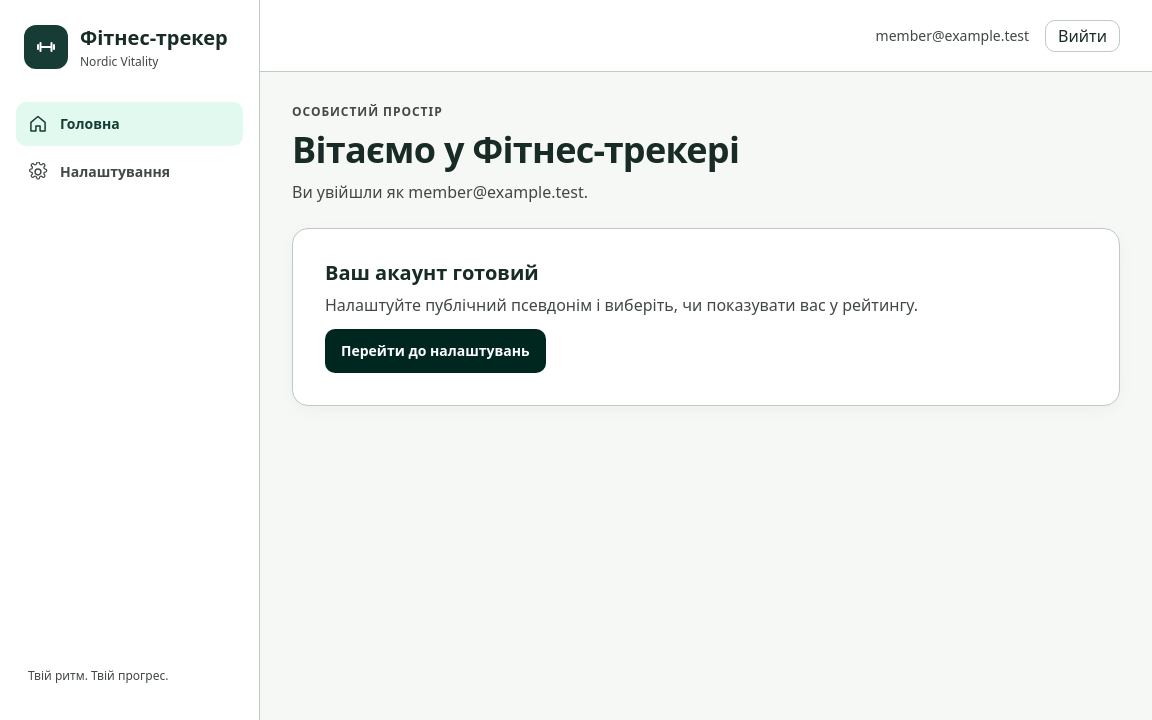
reload restores the server session and unauthorized settings returns to login
The image size is (1152, 720).
Expected: the text "member@example.test" is shown, [876, 26, 1029, 46]
Click the link "Налаштування". click: coordinates (99, 172)
box: [28, 162, 170, 182]
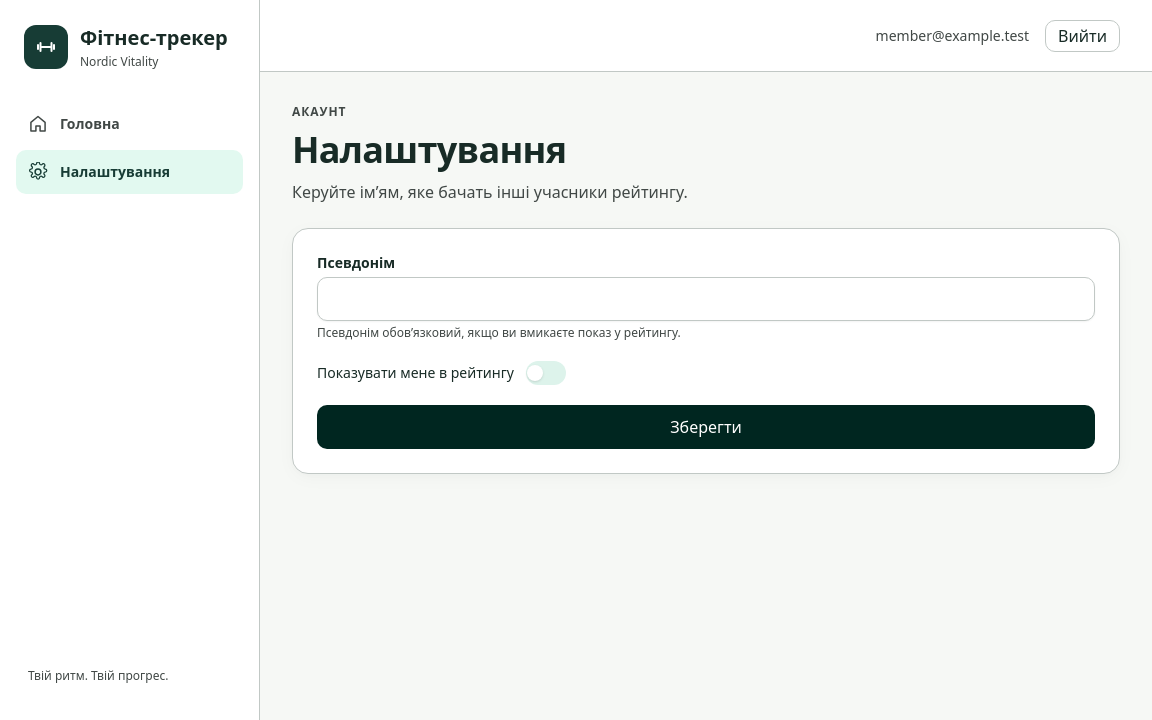
Expected: the heading "Налаштування" is shown, [292, 125, 566, 174]
Click the button "Зберегти". click: coordinates (706, 427)
box: [317, 405, 1095, 449]
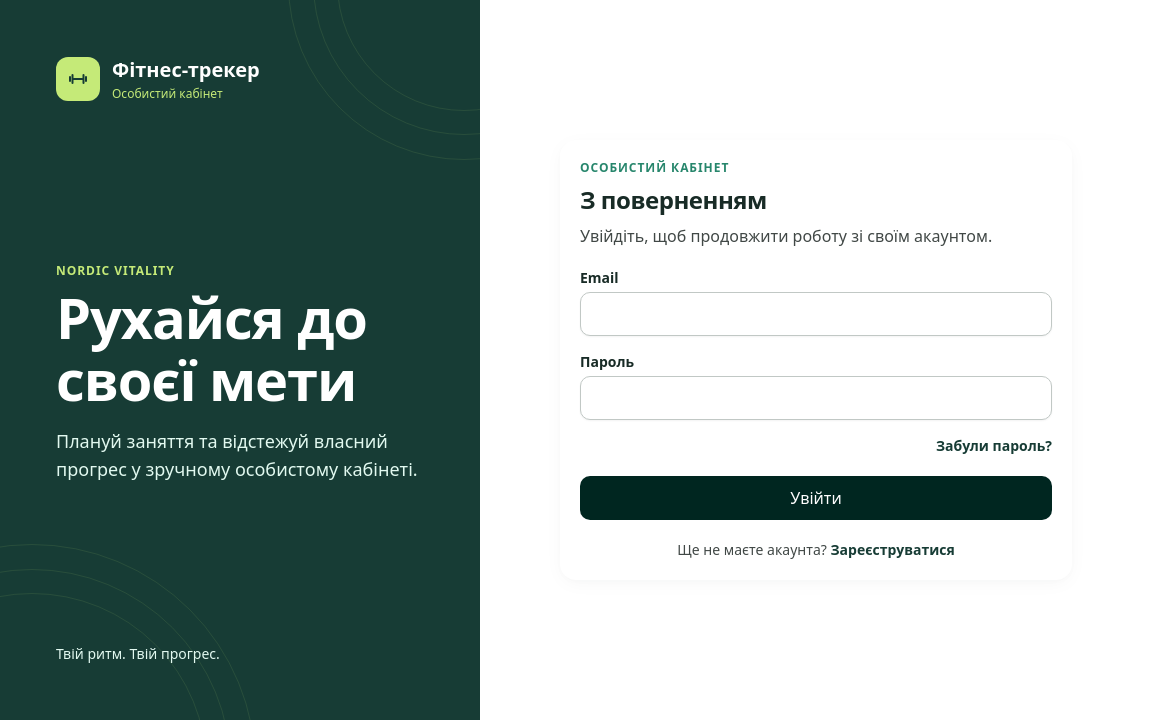
Expected: the button "Увійти" is shown, [580, 476, 1052, 520]
